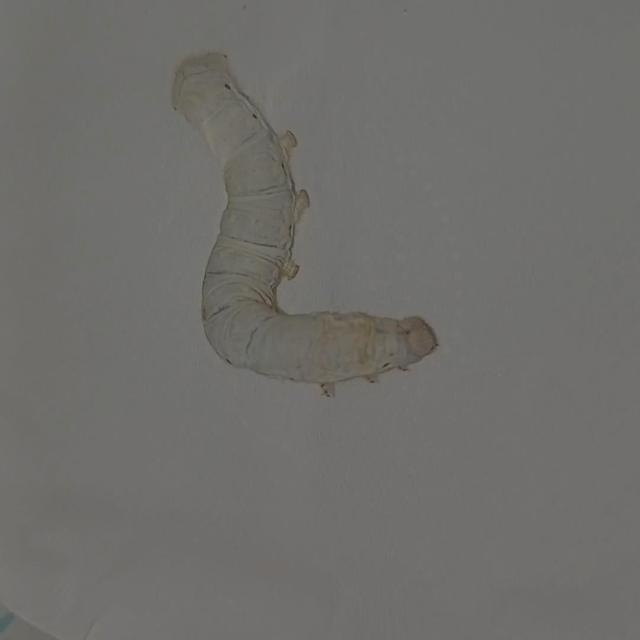Healthy: (147, 22, 458, 410)
